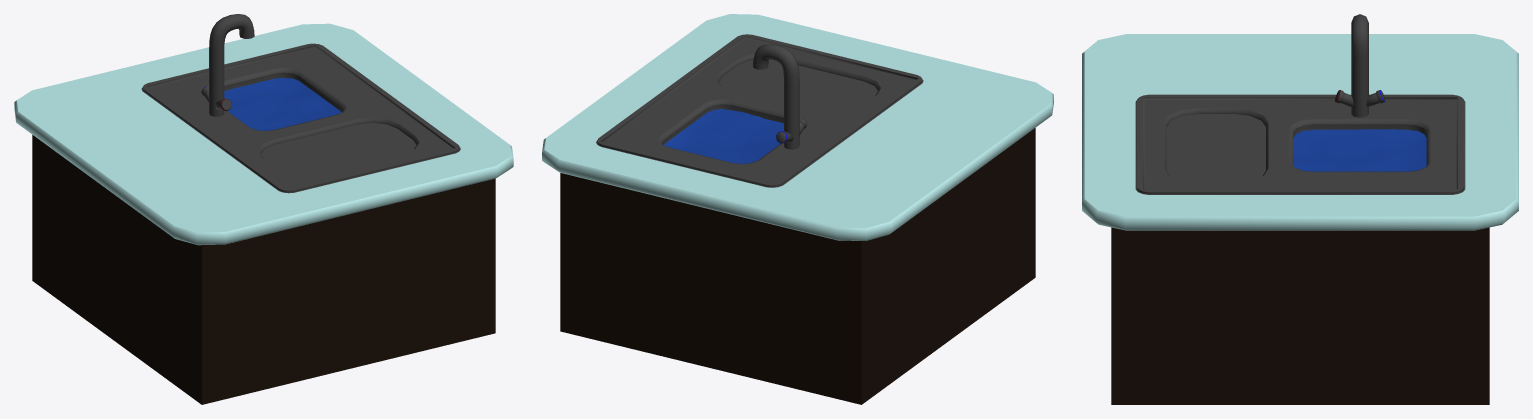
The model's file is Counter 2 sink.obj.
The picture shows the model from 3 angles, left to right: view 1: azimuth 30°, elevation 25°; view 2: azimuth 150°, elevation 25°; view 3: azimuth 270°, elevation 25°; orthographic projection. The views are drawn at different scales.
Parts seen in each view (by area): view 1: Cube, Cube.001, Cube.002, Plane, Cylinder; view 2: Cube, Cube.001, Cube.002, Plane, Cylinder; view 3: Cube, Cube.001, Cube.002, Plane, Cylinder.
Part boxes in pixels (x1,y1,x2,y2): Cube: (32,135,495,404); Cube.001: (14,23,513,245); Cube.002: (141,43,460,193); Plane: (224,78,341,130); Cylinder: (209,14,254,116); Cube: (560,128,1035,404); Cube.001: (542,14,1053,240); Cube.002: (596,34,923,187); Plane: (664,109,783,163); Cylinder: (753,44,799,149); Cube: (1111,227,1489,404); Cube.001: (1082,34,1518,230); Cube.002: (1135,94,1465,194); Plane: (1293,129,1426,171); Cylinder: (1351,14,1368,117).
Size of the model in its own units: 2.31 by 1.78 by 2.31.
